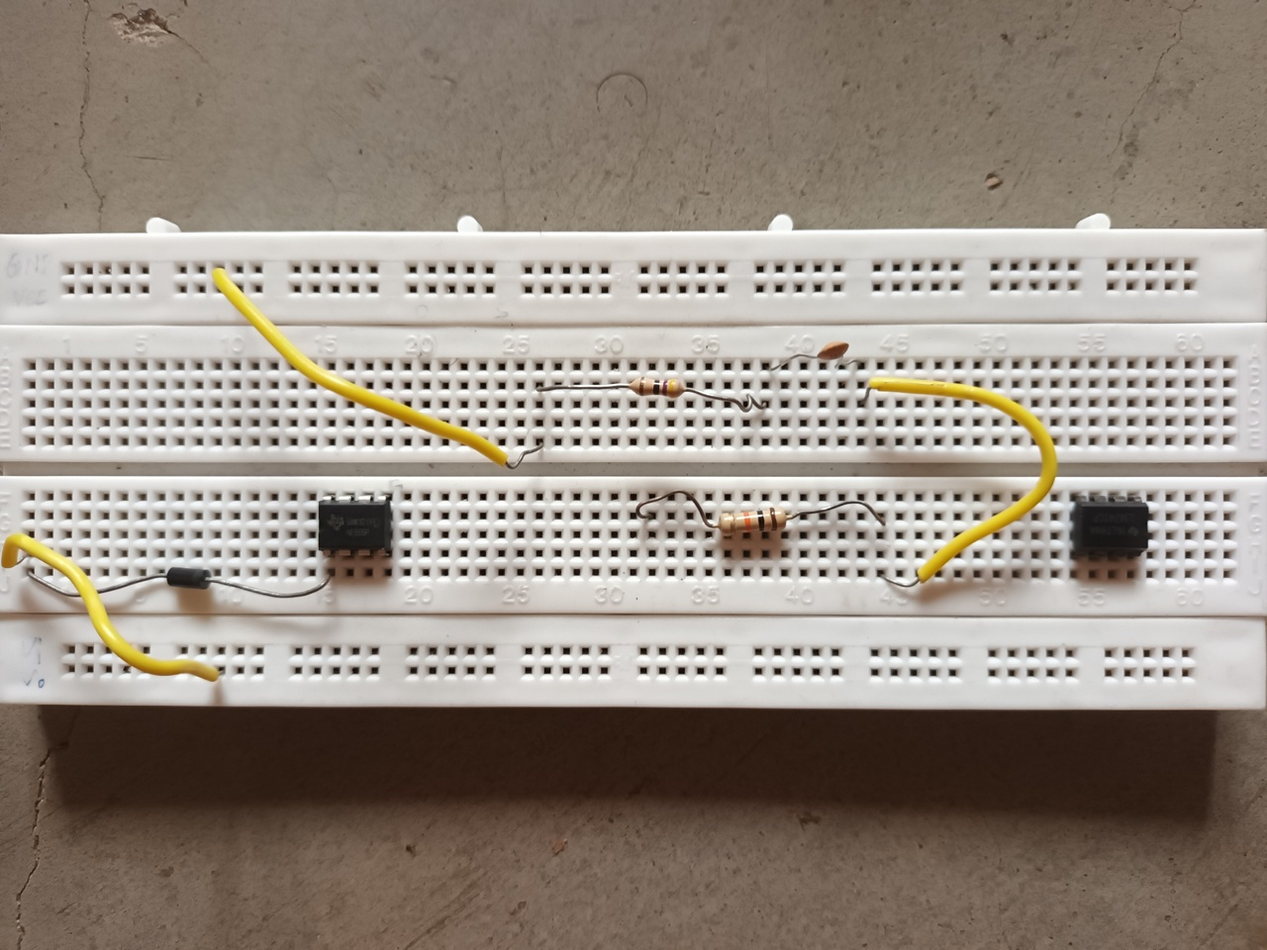capacitor: (817, 339, 849, 362)
resistor: (718, 506, 788, 538), (629, 375, 688, 399)
